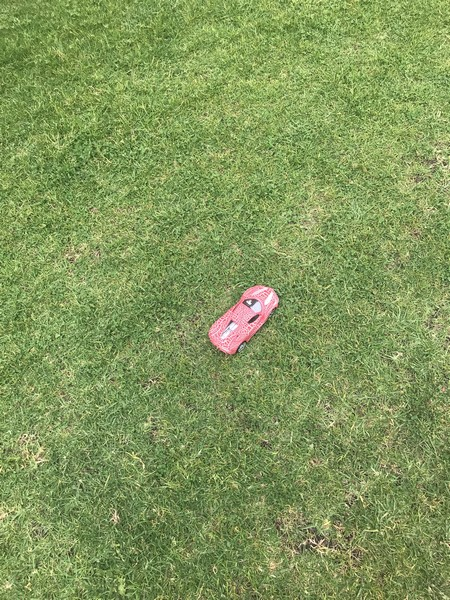RC: (206, 285, 282, 355)
